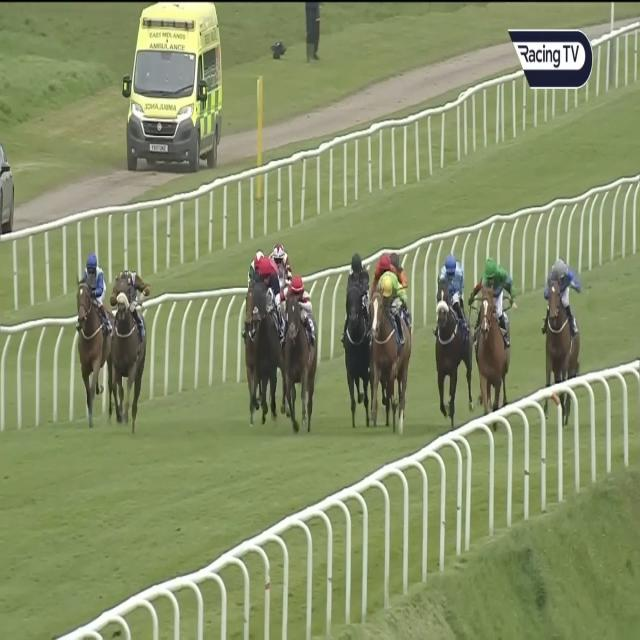horses-racing: (75, 254, 108, 415), (369, 270, 403, 424), (433, 253, 468, 398), (110, 268, 144, 409), (282, 275, 313, 414), (478, 254, 508, 396), (251, 262, 278, 412), (545, 254, 573, 392), (349, 256, 369, 413), (267, 244, 292, 290), (390, 248, 410, 286), (370, 250, 392, 279), (246, 251, 262, 281)
